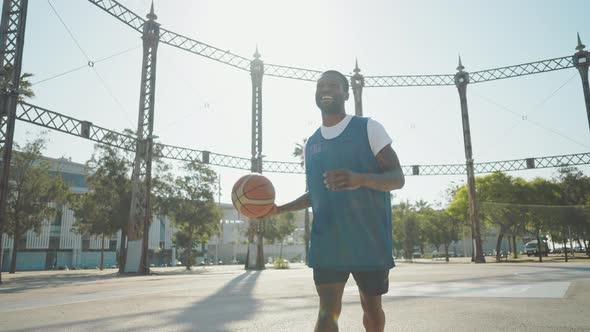basketball: (233, 173, 275, 218)
